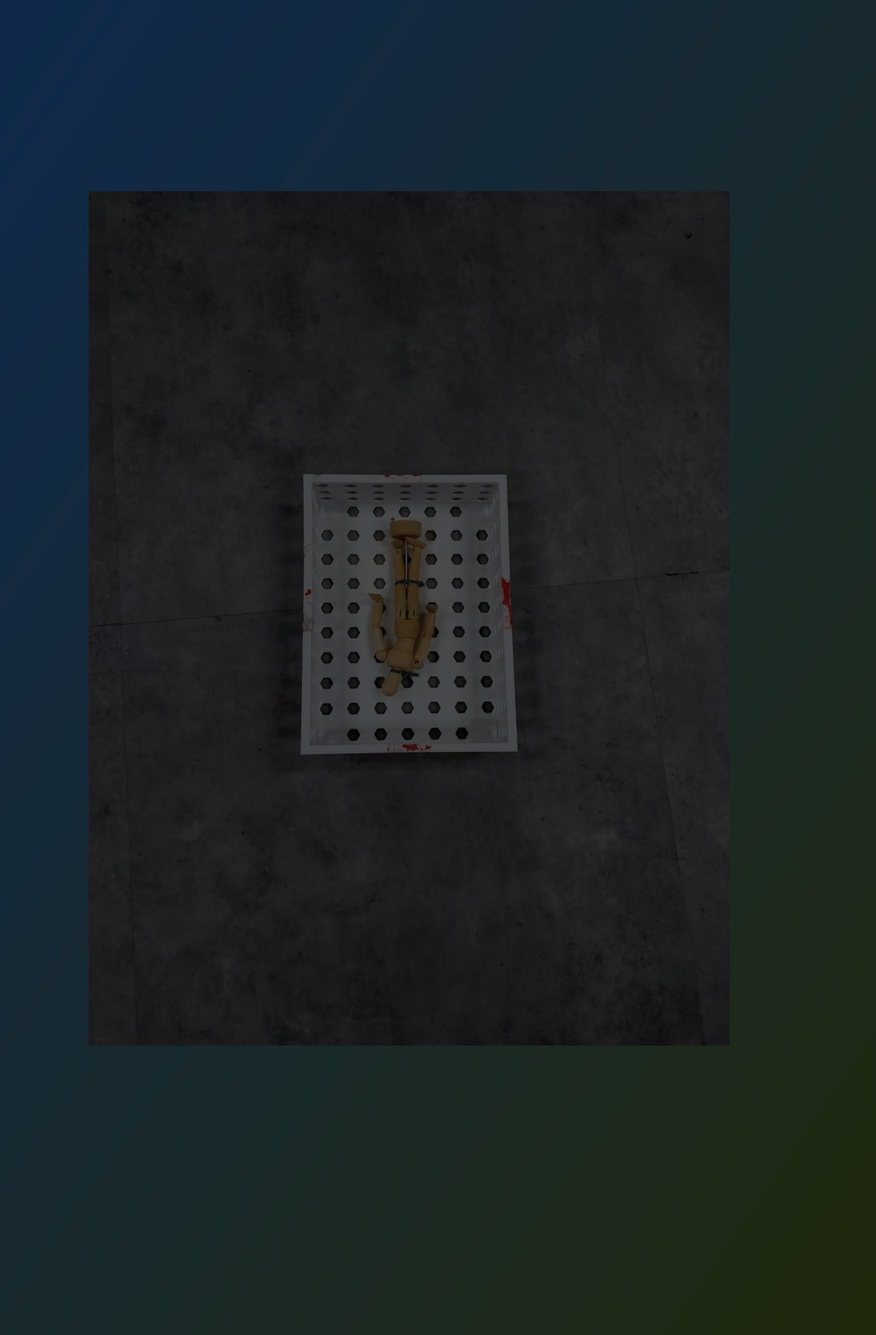basket: (290, 463, 522, 768)
mannequin: (366, 516, 439, 708)
